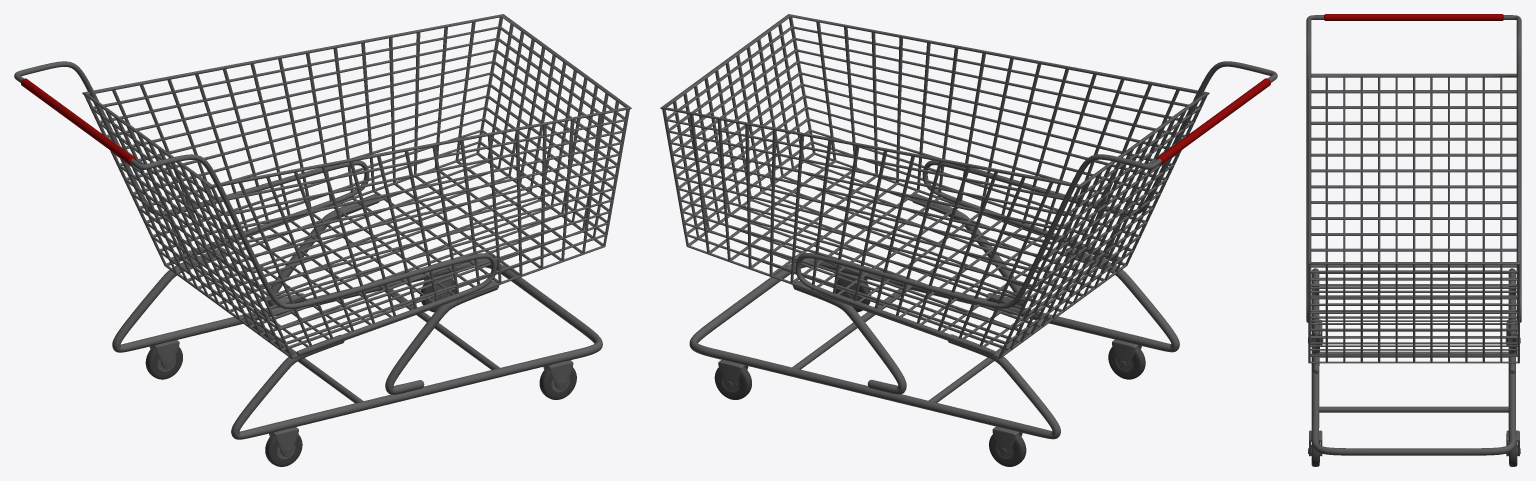
File: cart_fbx.fbx
3 renders of one model, left to right at view 1: azimuth 30°, elevation 25°; view 2: azimuth 150°, elevation 25°; view 3: azimuth 270°, elevation 25°, orthographic. The views are drawn at different scales.
Parts seen in each view (by area): view 1: cart_base, cart_lower, cart_handle, cart_tyres; view 2: cart_base, cart_lower, cart_handle, cart_tyres; view 3: cart_base, cart_lower, cart_handle, cart_tyres.
Part boxes in pixels (x1,y1,x2,y2): cart_base: [82, 14, 631, 359]; cart_lower: [112, 193, 602, 439]; cart_handle: [14, 61, 496, 355]; cart_tyres: [145, 274, 576, 466]; cart_base: [660, 14, 1209, 358]; cart_lower: [689, 193, 1179, 439]; cart_handle: [795, 61, 1277, 355]; cart_tyres: [714, 273, 1145, 466]; cart_base: [1308, 73, 1519, 363]; cart_lower: [1311, 268, 1516, 455]; cart_handle: [1306, 14, 1521, 322]; cart_tyres: [1308, 319, 1520, 466].
Size of the model in its own units: 121 by 79.96 by 55.42.
